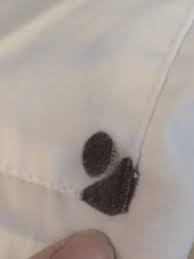ink: (81, 162, 134, 218), (82, 134, 111, 175)
